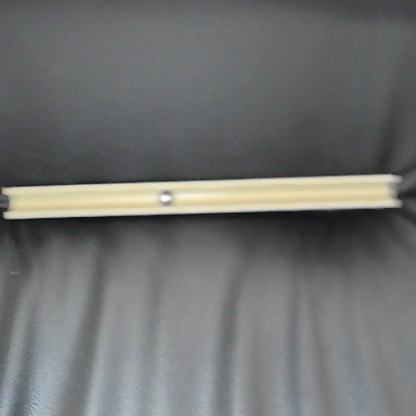ironball: (155, 187, 174, 205)
